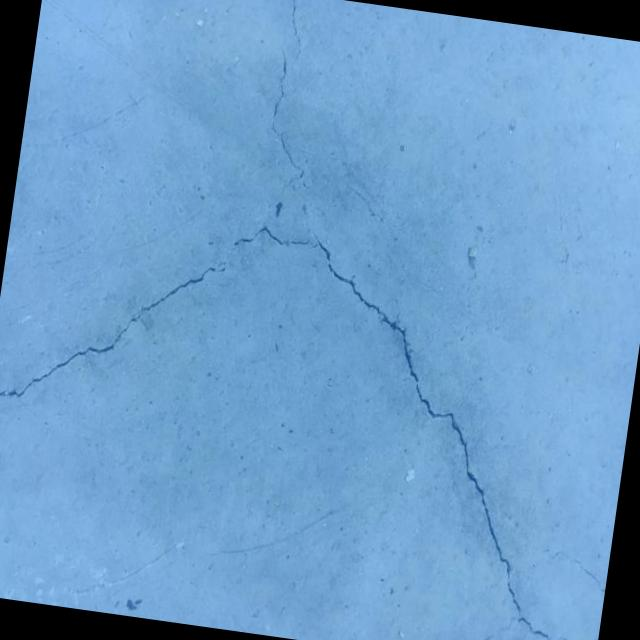crack: (0, 14, 640, 640), (537, 547, 610, 594), (282, 0, 309, 61), (347, 188, 389, 226)
